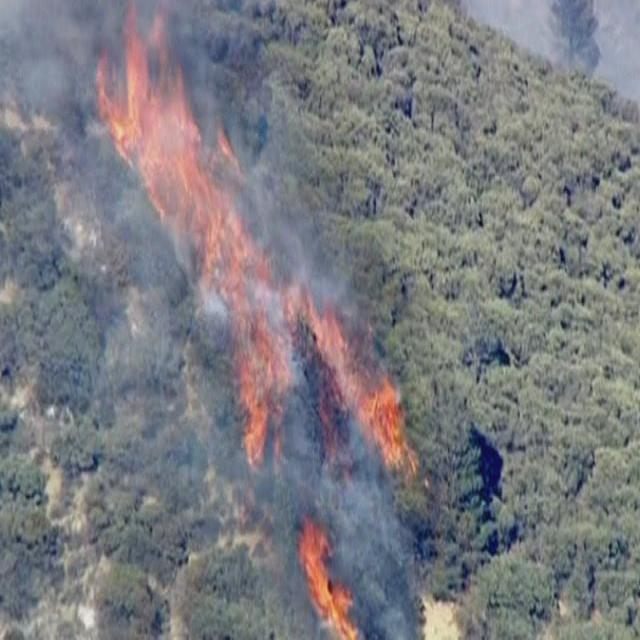Fire: (114, 59, 306, 460), (314, 304, 430, 482), (300, 528, 362, 640)
Smoke: (0, 0, 509, 640)
